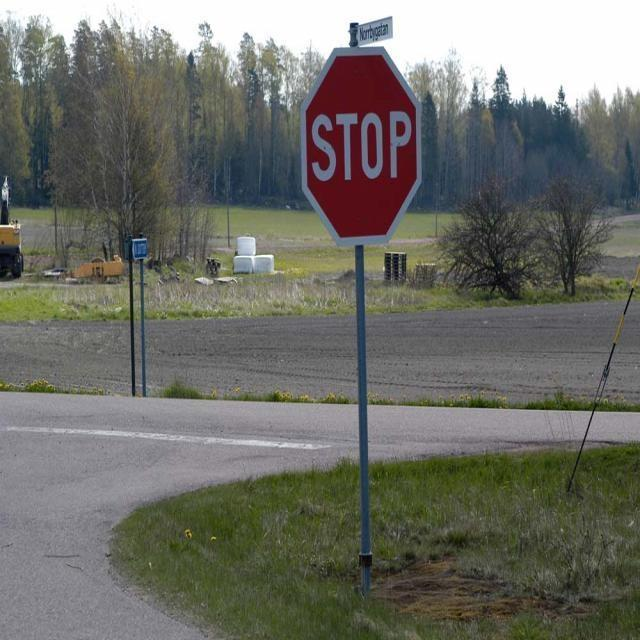Stop-Sign: (304, 51, 419, 246)
